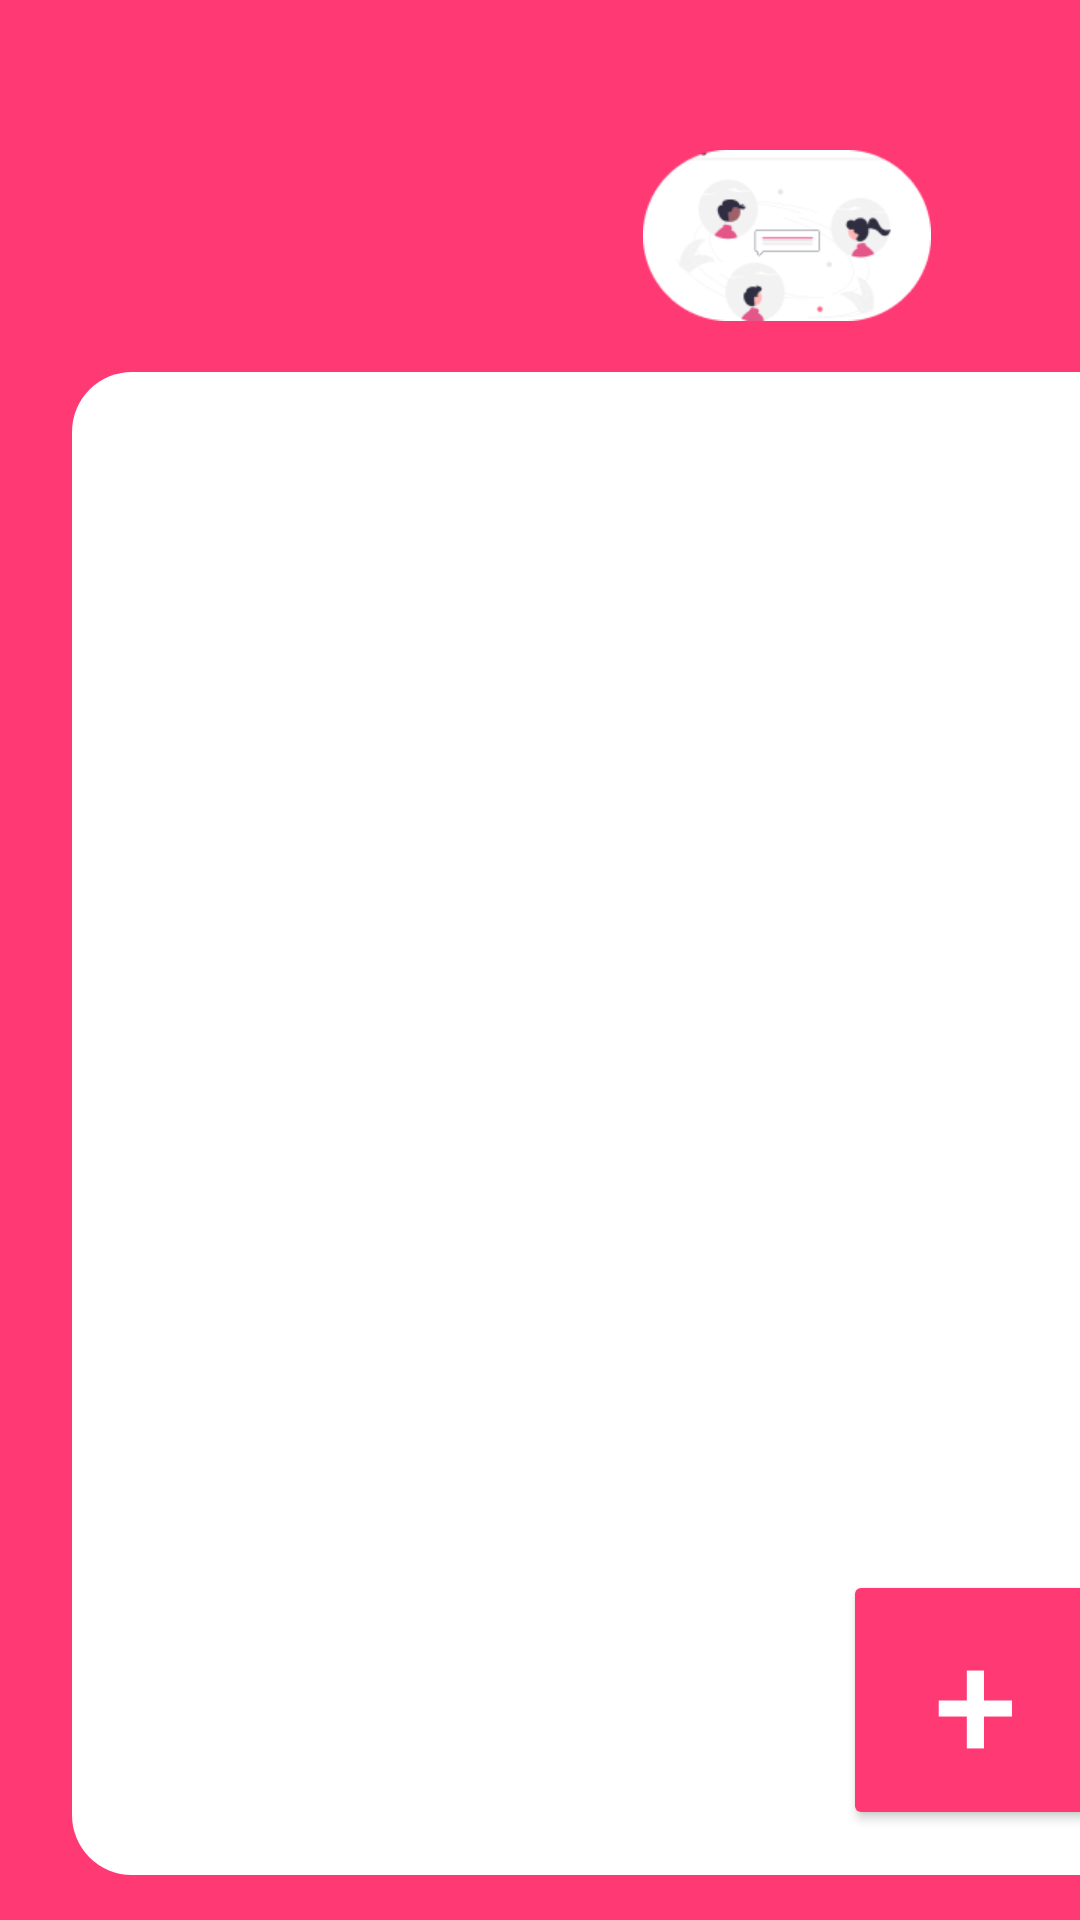

Point at icon controls on the screen. Image size 1080×1920, points as (x,y).
friendsicon: (787,235)
